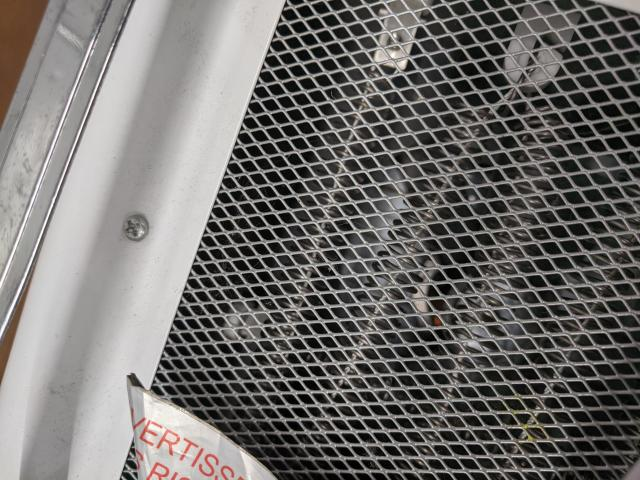CRS: (116, 214, 154, 242)
